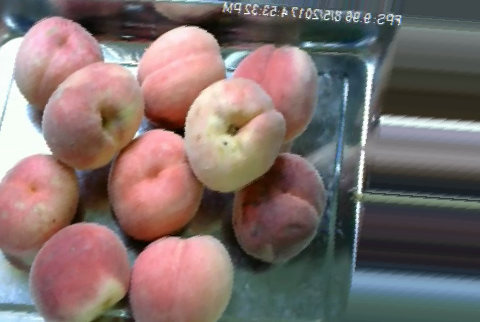Peach: (183, 76, 288, 191), (42, 62, 145, 169), (104, 129, 202, 238), (230, 152, 324, 264), (28, 222, 133, 320), (134, 25, 228, 127), (226, 42, 317, 141), (130, 233, 231, 321), (11, 16, 105, 110)
